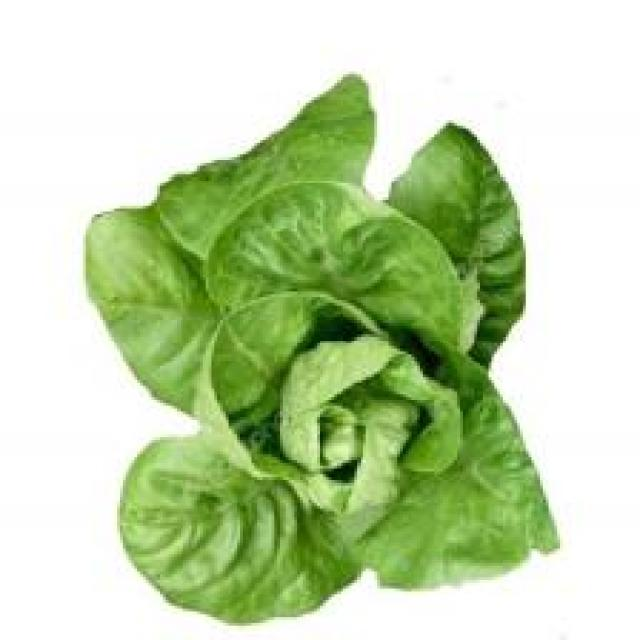Lettuce: (84, 73, 561, 625)
